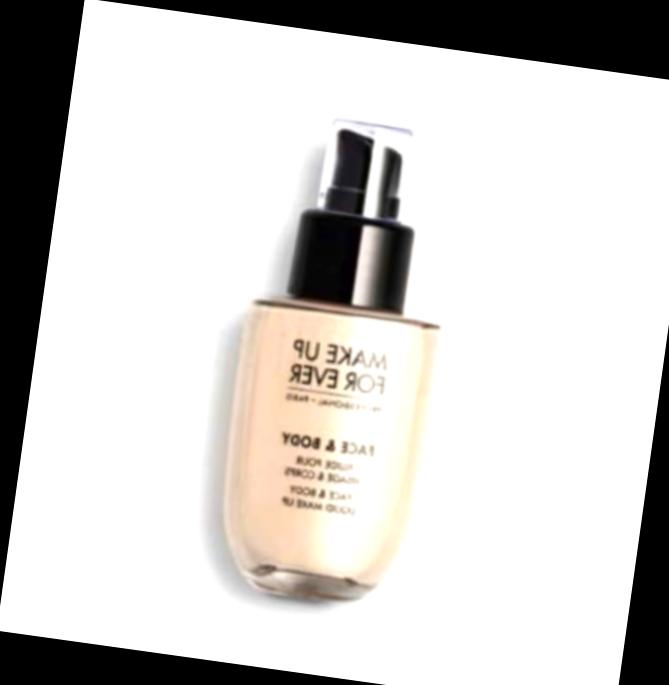cosmetic: (204, 107, 469, 615)
